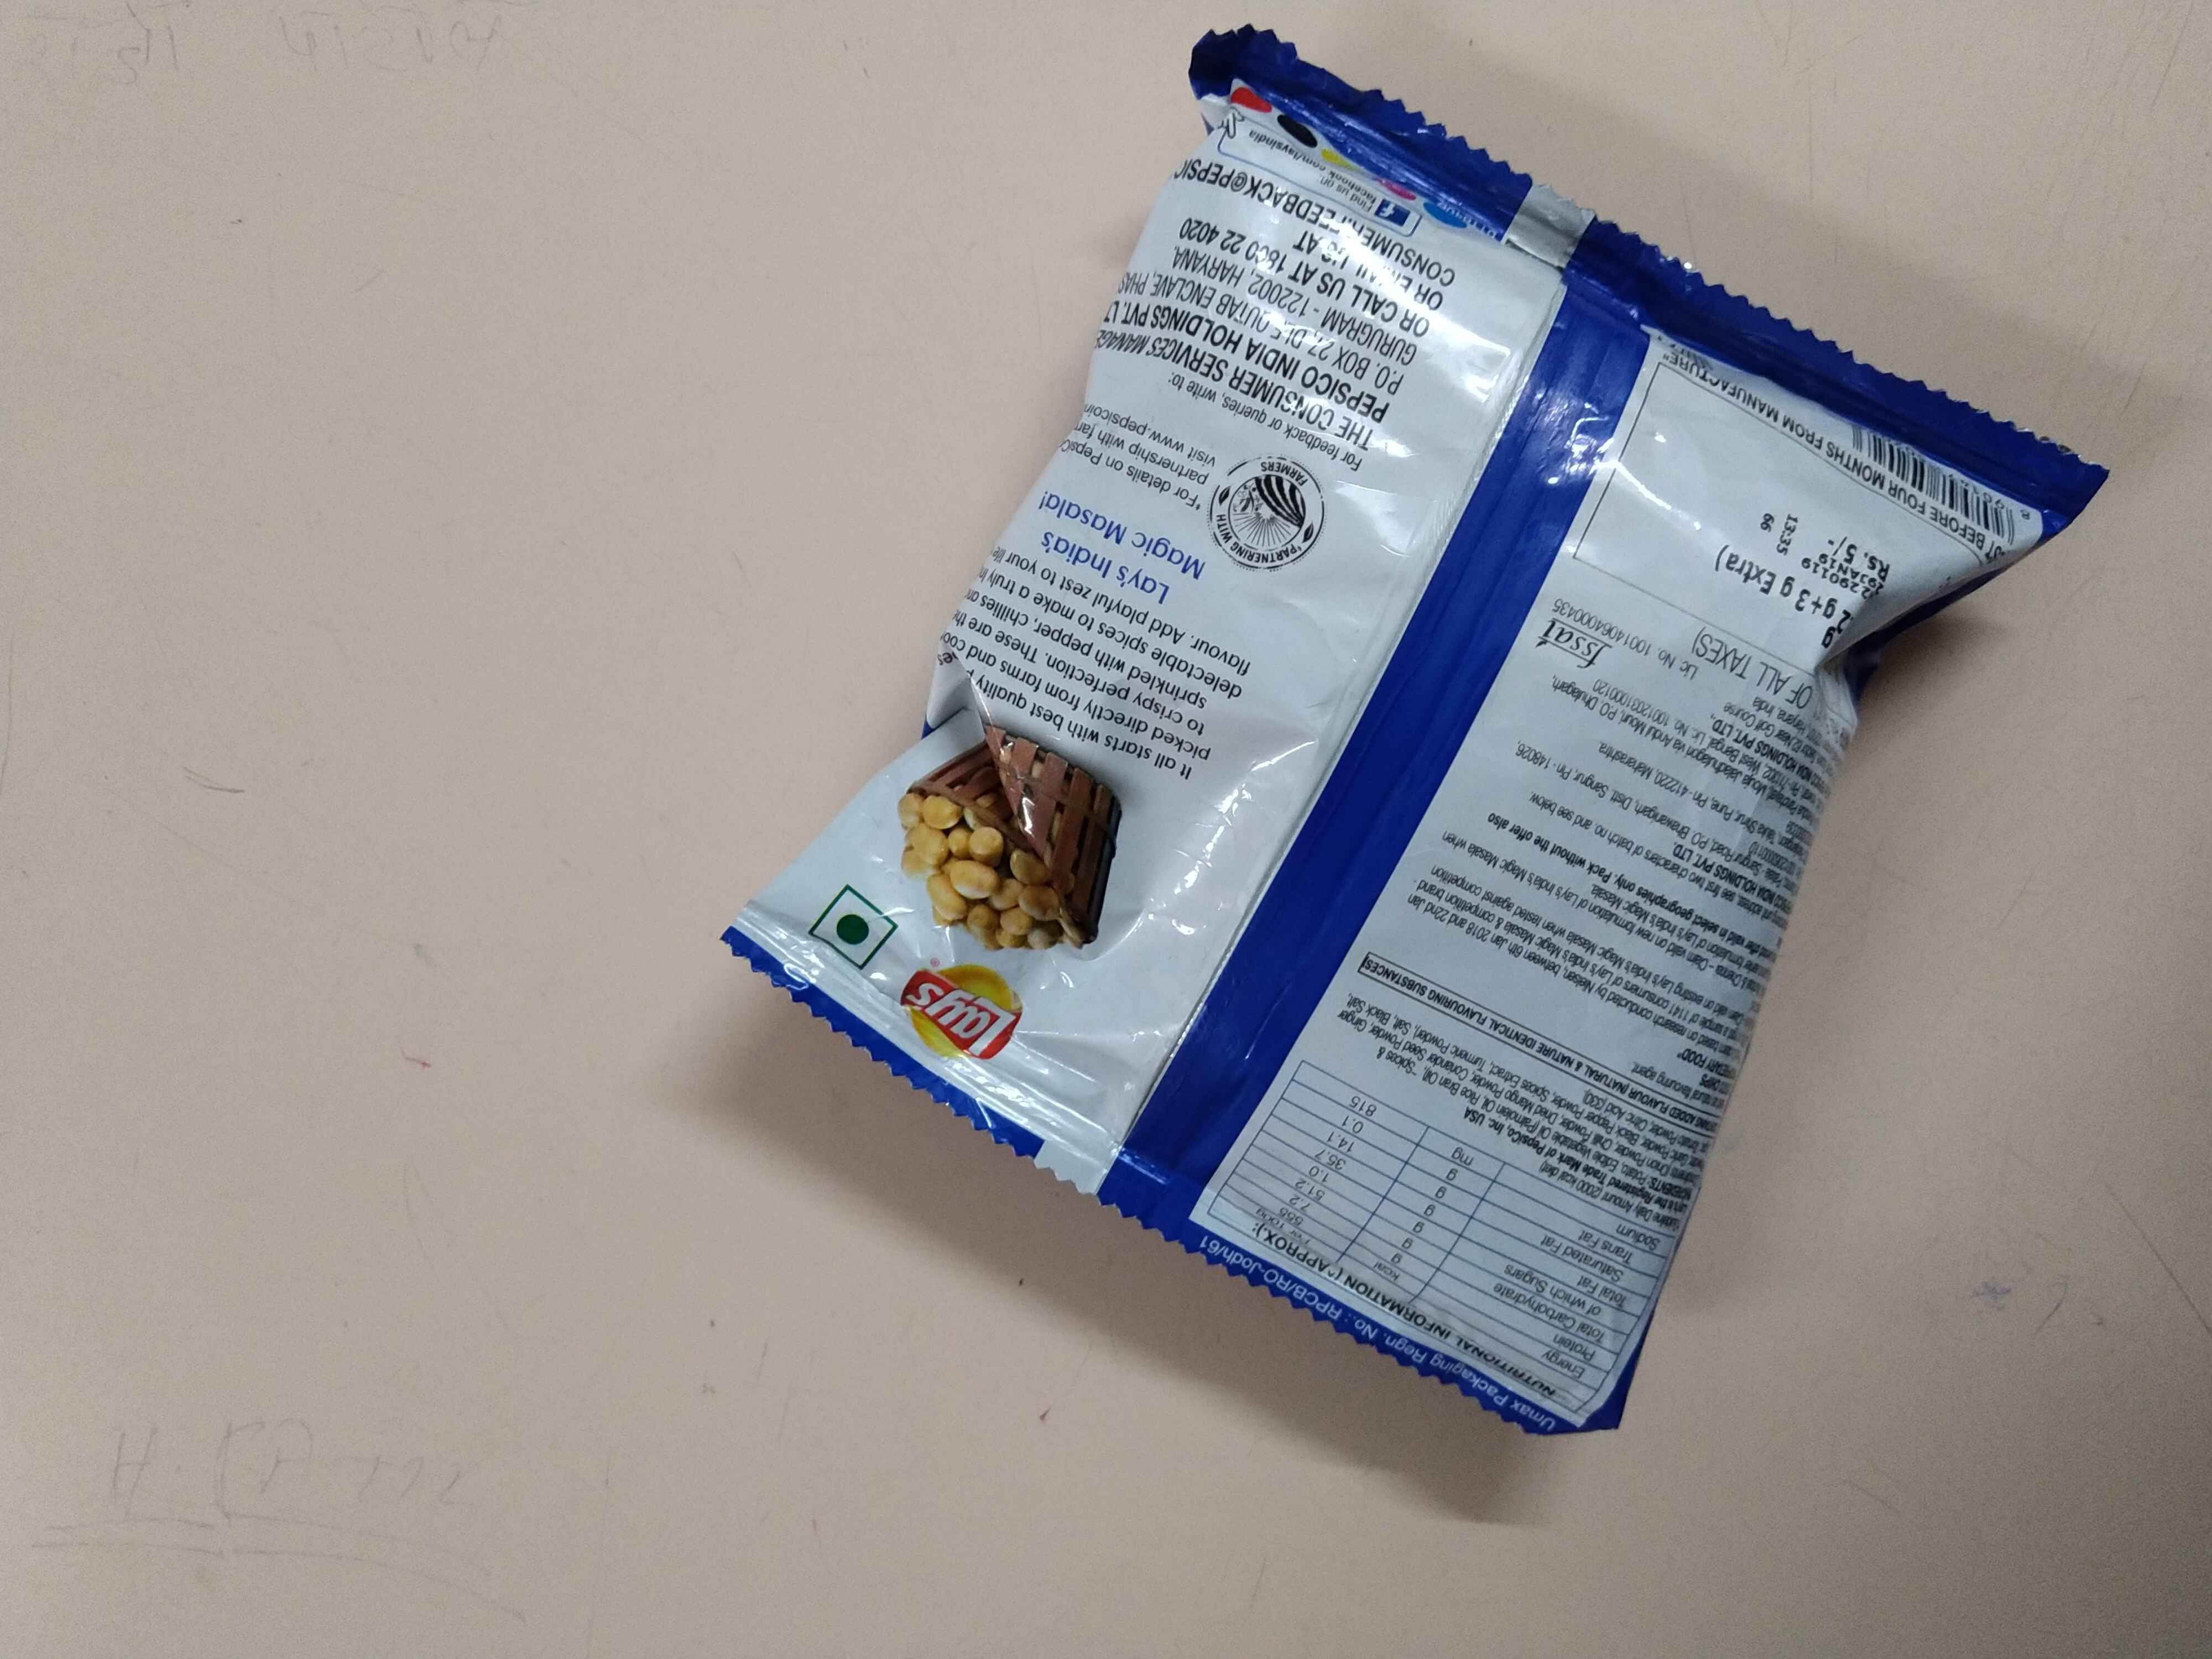Lays: (892, 948, 1038, 1091)
